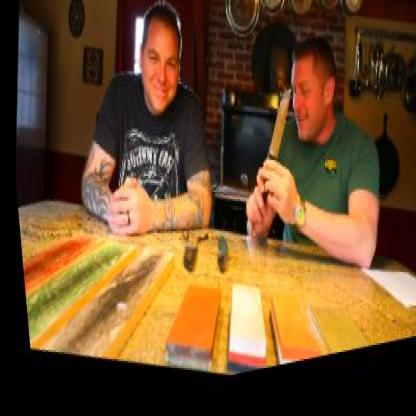knife: (240, 79, 300, 205)
